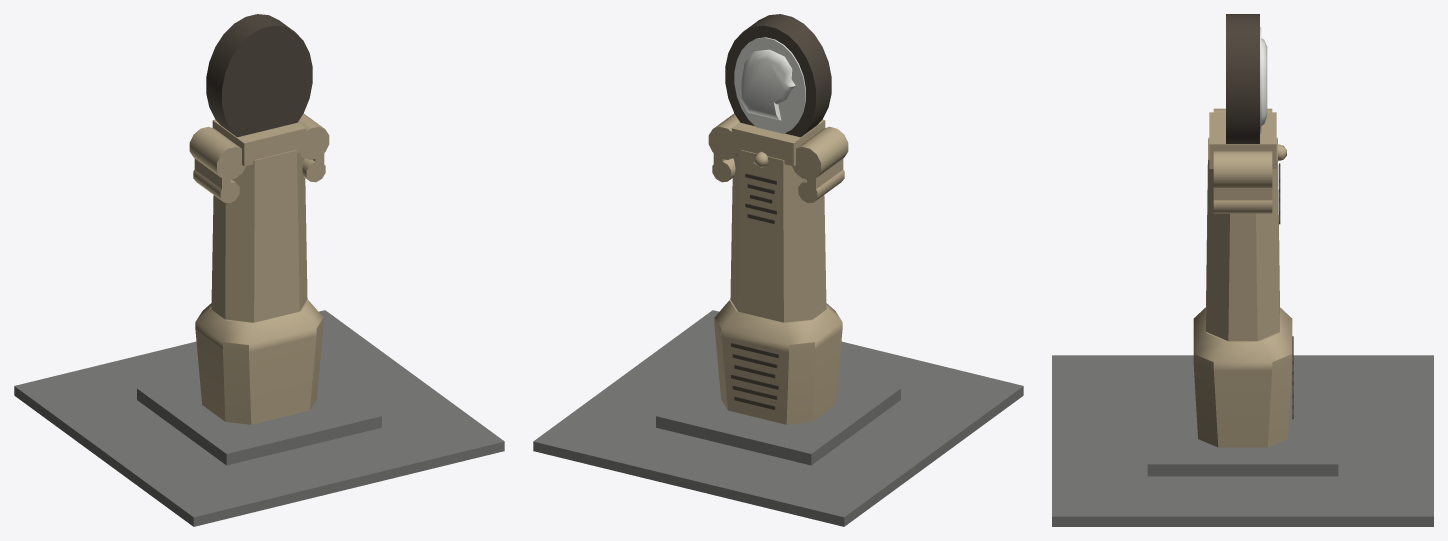
The model's file is mon_boettger_stele.glb.
3 views of the same model, side by side, from view 1: azimuth 30°, elevation 25°; view 2: azimuth 150°, elevation 25°; view 3: azimuth 270°, elevation 25° (orthographic). The views are drawn at different scales.
Visible parts, largest first — view 1: mon_boettger_stele; view 2: mon_boettger_stele; view 3: mon_boettger_stele.
Boxes of the visible parts, left/top/right/bottom form: mon_boettger_stele: left=14, top=14, right=504, bottom=526; mon_boettger_stele: left=533, top=14, right=1023, bottom=526; mon_boettger_stele: left=1052, top=14, right=1433, bottom=526.
Size of the model in its own units: 1.7 by 2.1 by 1.7.
